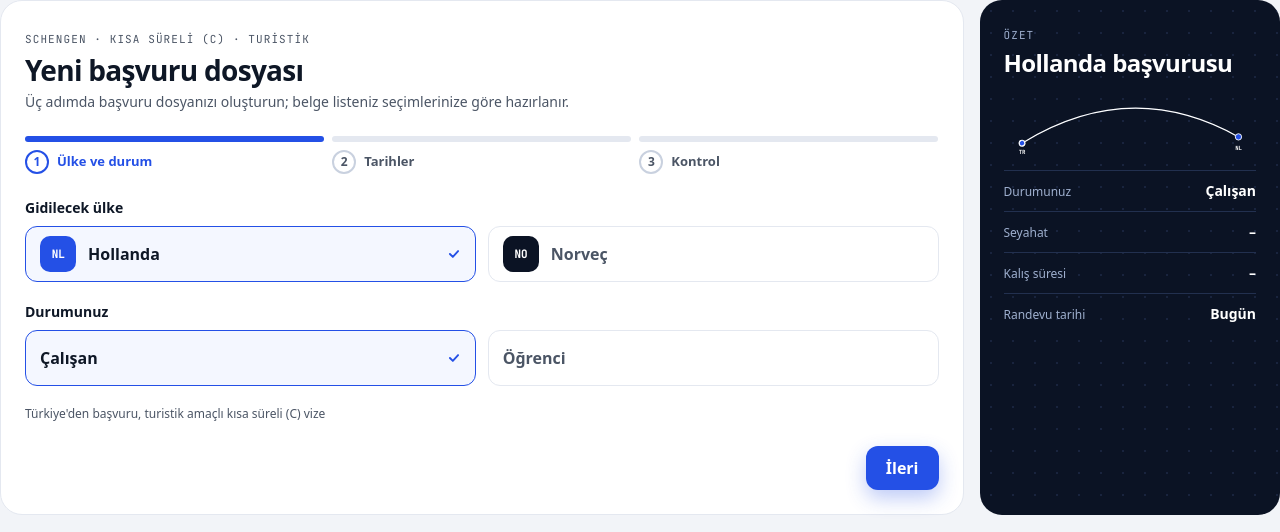
it: new application wizard › sends the chosen destination, profile and dates
Later steps or results of the test are not shown.
Click the radio button labelled "NO Norveç" at (521, 254), box [488,226,939,282]
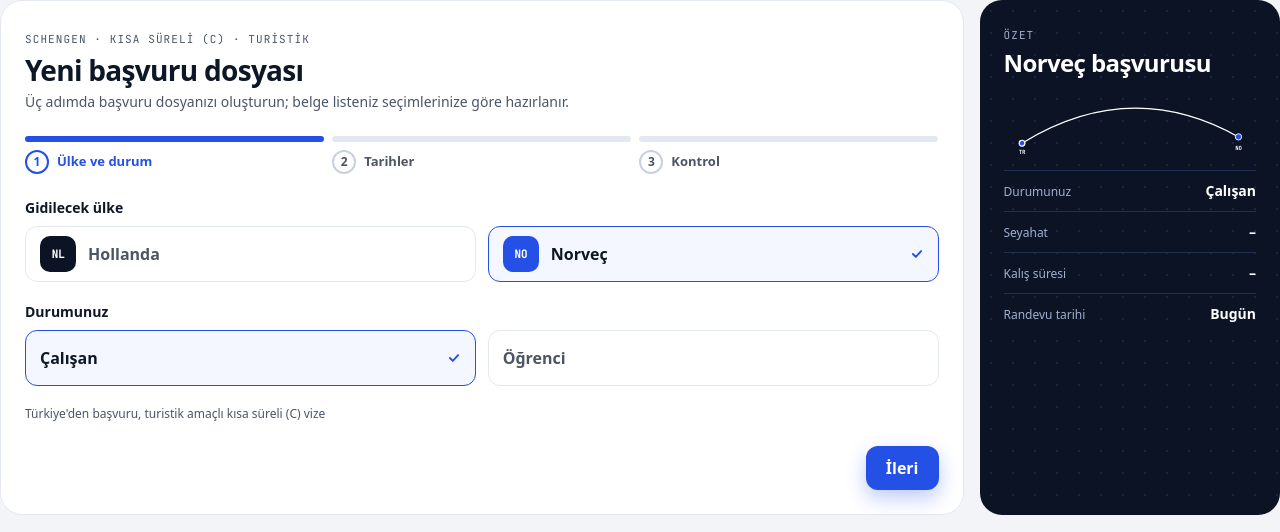
Click the radio button labelled "Öğrenci" at (534, 358), box [488,330,939,386]
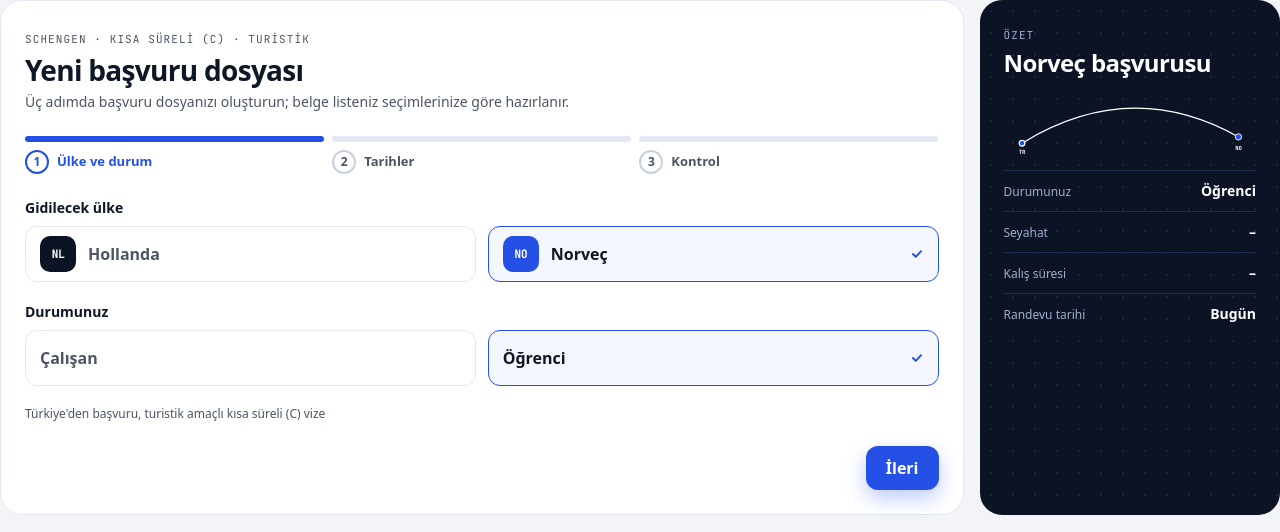
Click the button "İleri" at (902, 468), box [866,446,938,490]
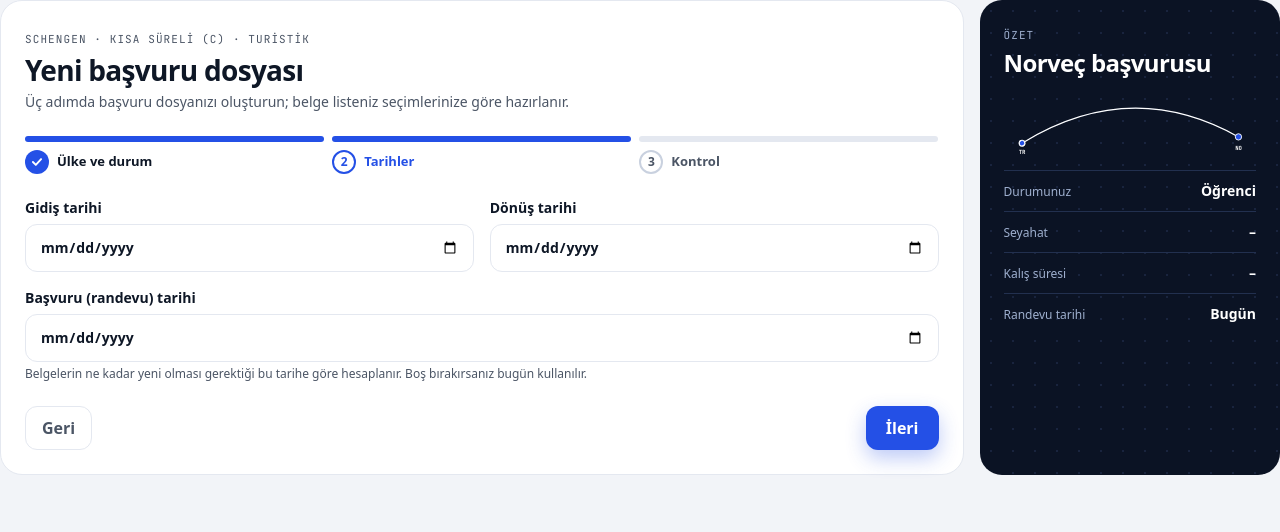
Type "2027-04-10" into the date field labelled "Gidiş tarihi" at (249, 248), box [25,224,474,272]
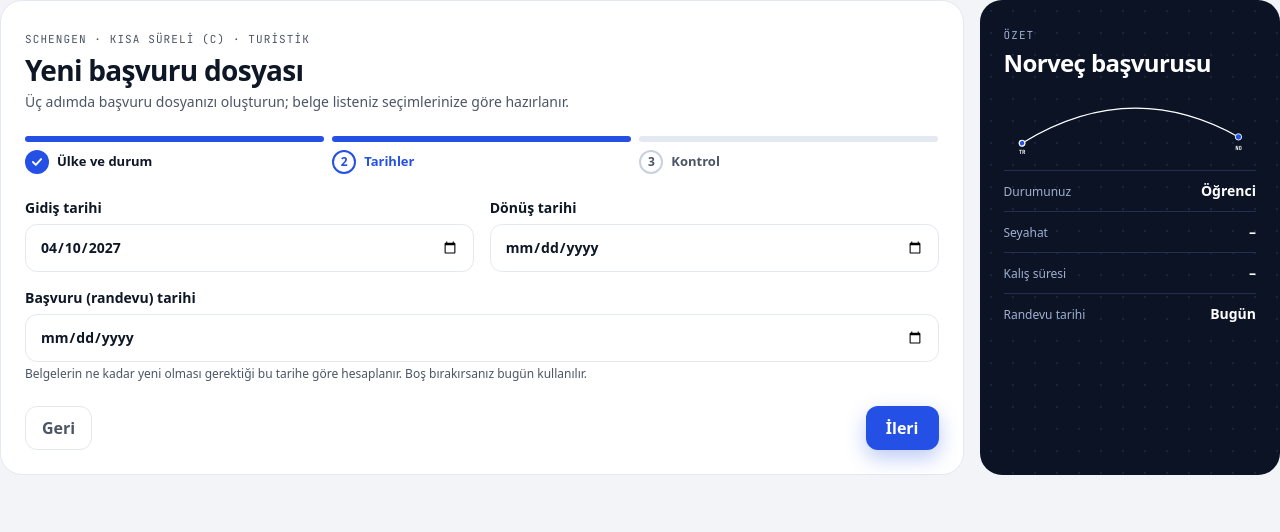
Type "2027-04-20" into the date field labelled "Dönüş tarihi" at (714, 248), box [490,224,939,272]
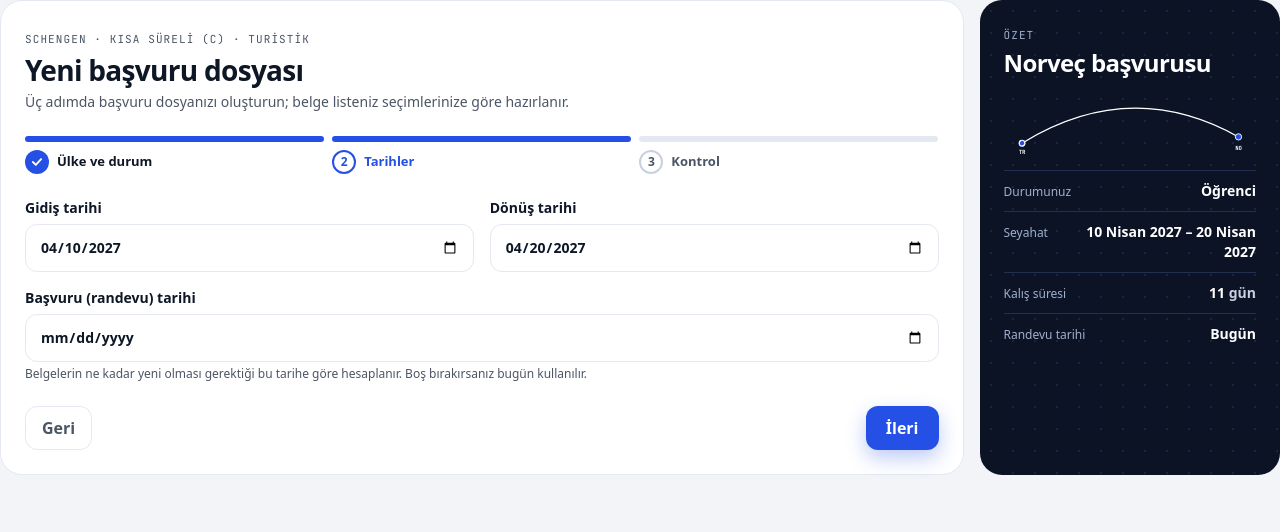
Click the button "İleri" at (902, 428), box [866,406,938,450]
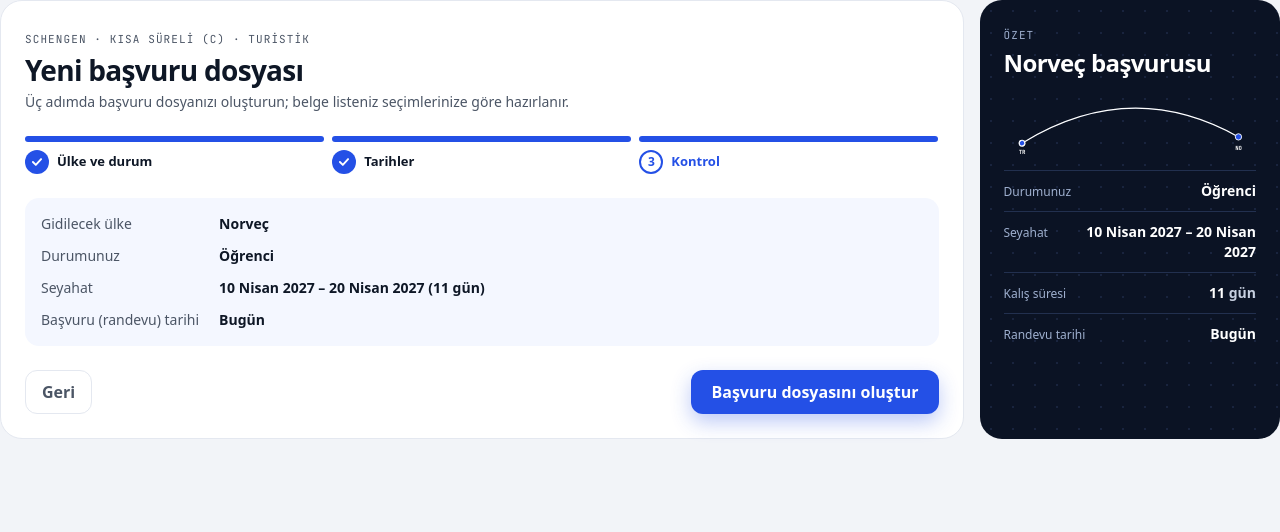
Result: the text "11 gün" is shown at [433,278,480,297]
